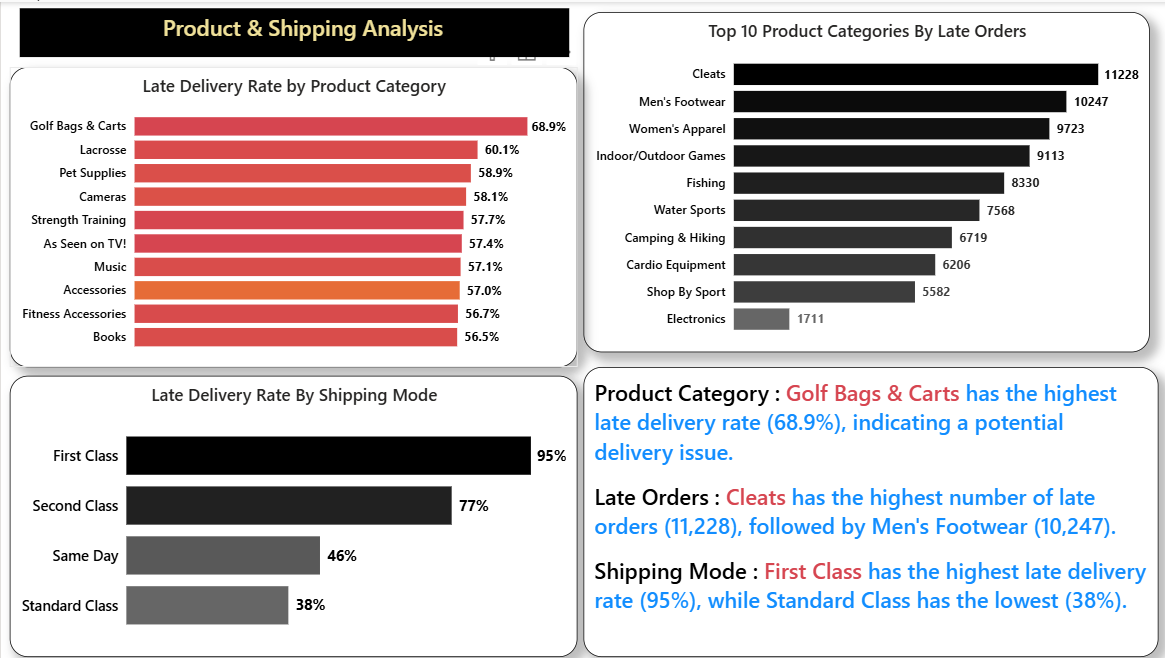

The dashboard page shown, as its layout file describes it:
{"tool":"powerbi","page":{"name":"Page 2","canvas":[1280,720],"ordinal":1},"visuals":[{"type":"barChart","title":" Top 10 Product Categories By Late Orders ","fields":{"Y":["DataCoSupplyChainDataset1.late orders"],"Category":["DataCoSupplyChainDataset1.Category_Name"]},"box":[639.4,11,622.1,389.6],"z":0},{"type":"barChart","title":"Late Delivery Rate  by Product Category","fields":{"Y":["DataCoSupplyChainDataset1.Late Delivery %"],"Category":["DataCoSupplyChainDataset1.Category_Name"]},"box":[9.4,70.7,623.7,329.9],"z":1000},{"type":"barChart","title":"Late Delivery  Rate By Shipping Mode ","fields":{"Y":["DataCoSupplyChainDataset1.Late Delivery %"],"Category":["DataCoSupplyChainDataset1.Shipping_Mode"]},"box":[9.6,400.7,623,318.4],"z":2000},{"type":"textbox","box":[20.4,6.3,603.2,53.4],"z":3000},{"type":"textbox","box":[639.5,400.7,631.2,318.4],"z":4000}]}

Visuals, with their boxes in screenshot pixels (x1, y1, x2, y2), scaled from the page's 1280x720 canvas onto the 1165x658 screenshot:
" Top 10 Product Categories By Late Orders " barChart: left=582, top=10, right=1148, bottom=366
"Late Delivery Rate  by Product Category" barChart: left=9, top=65, right=576, bottom=366
"Late Delivery  Rate By Shipping Mode " barChart: left=9, top=366, right=576, bottom=657
textbox: left=19, top=6, right=568, bottom=55
textbox: left=582, top=366, right=1157, bottom=657
